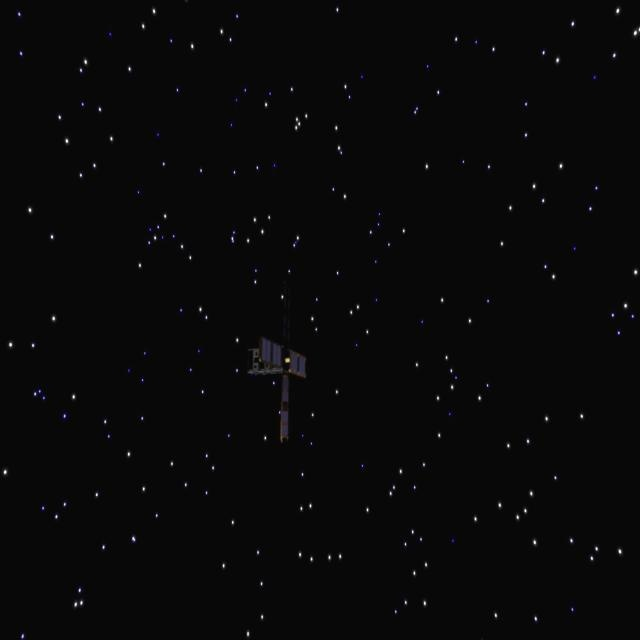medium_debris: (244, 322, 324, 450)
